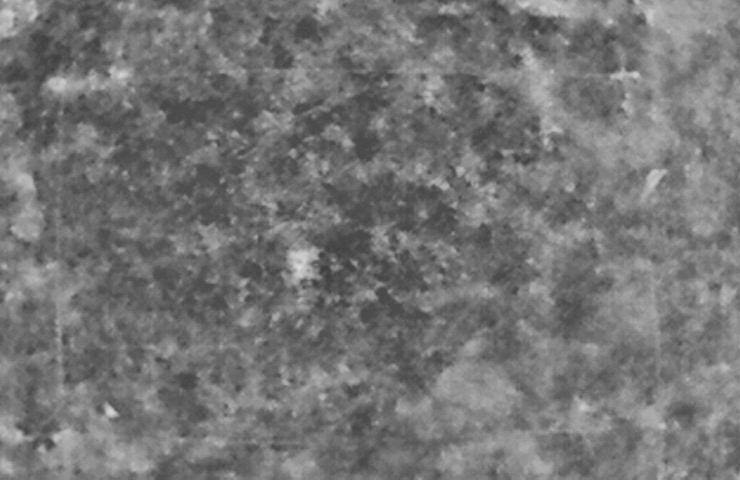landmines: (287, 244, 326, 286)
